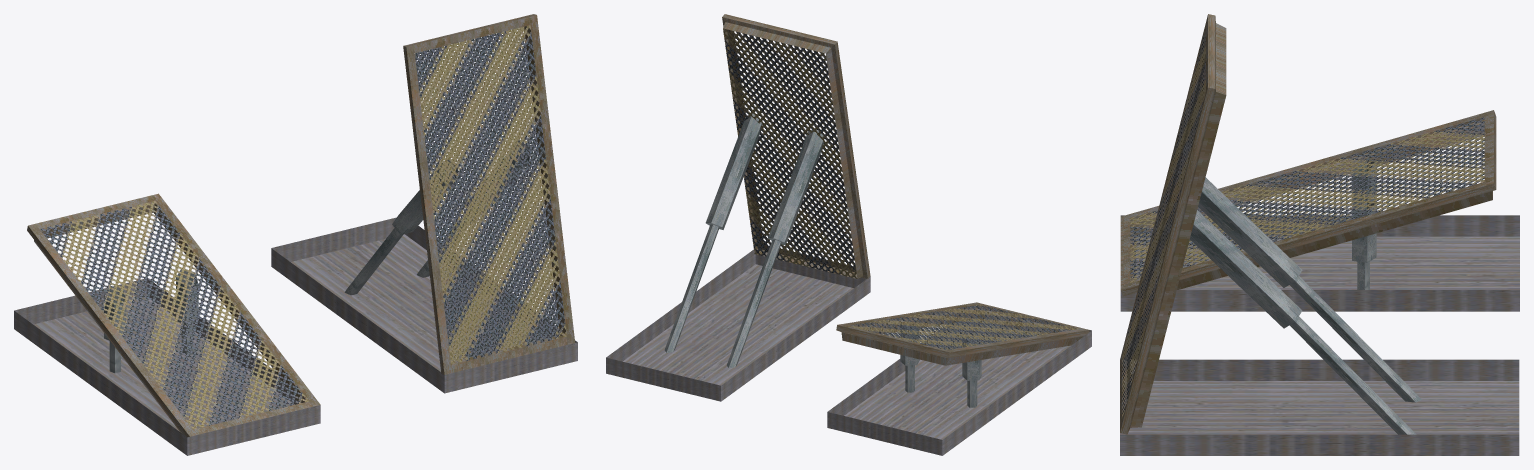
Rendered from lasblastde_las.obj.
The picture shows the model from 3 angles, left to right: view 1: azimuth 30°, elevation 25°; view 2: azimuth 150°, elevation 25°; view 3: azimuth 270°, elevation 25°; orthographic projection. The views are drawn at different scales.
Parts seen in each view (by area): view 1: lasblastde_LAS; view 2: lasblastde_LAS; view 3: lasblastde_LAS.
Boxes of the visible parts, left/top/right/bottom form: lasblastde_LAS: left=14, top=14, right=577, bottom=455; lasblastde_LAS: left=606, top=14, right=1091, bottom=455; lasblastde_LAS: left=1120, top=14, right=1519, bottom=455.
Bounding box in the file's own units: 20.36 × 16.27 × 15.68.
